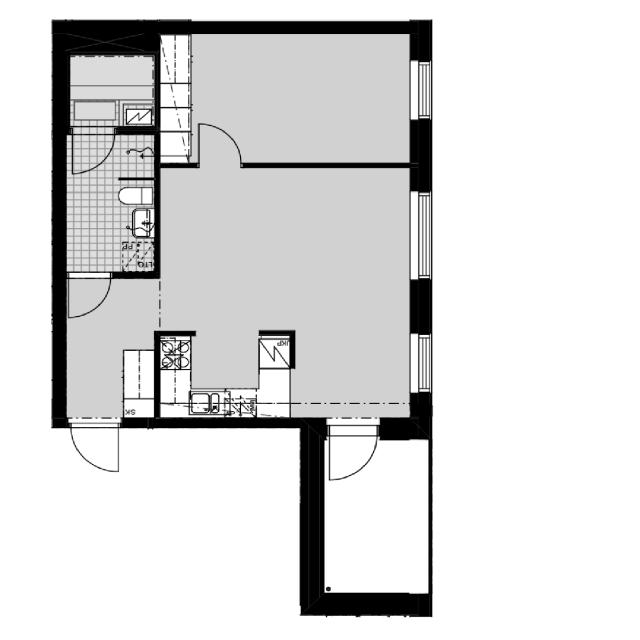door: (66, 421, 126, 474), (325, 428, 376, 478), (66, 273, 118, 319), (71, 127, 115, 175), (195, 121, 240, 161)
window: (414, 186, 440, 266), (410, 331, 436, 398), (417, 54, 439, 124)
zone: (156, 161, 418, 413), (154, 32, 412, 165), (320, 438, 430, 600), (58, 128, 150, 273), (63, 275, 152, 422), (70, 52, 162, 132)
